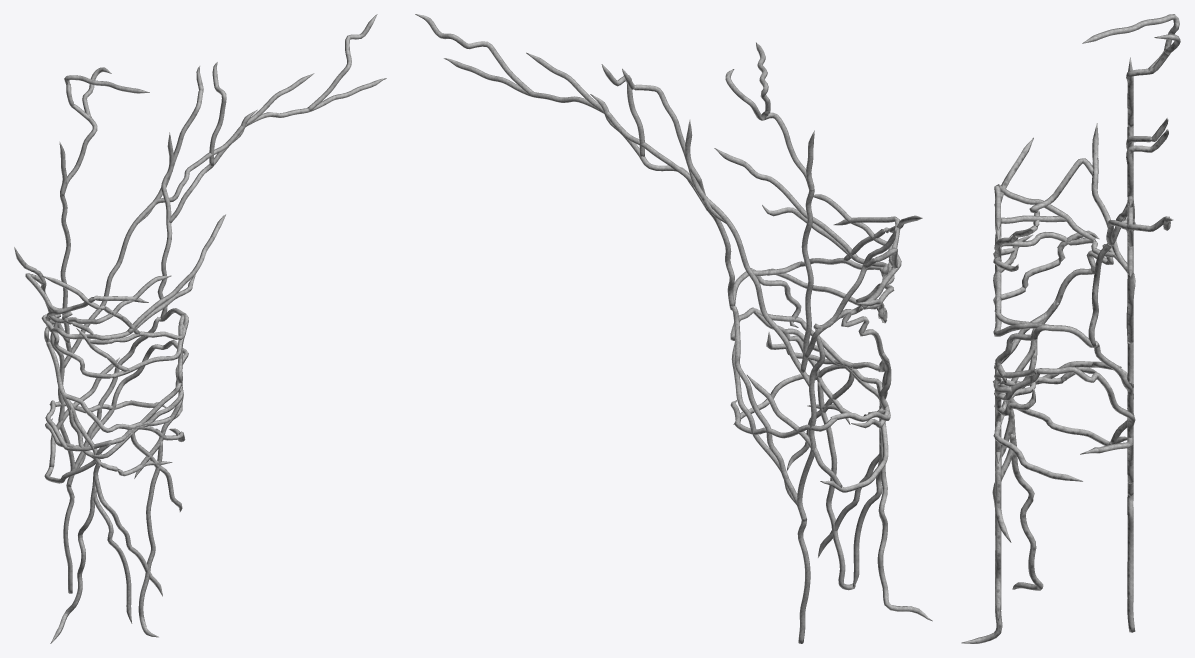
File: SM_Climber_06a.fbx
3 renders of one model, left to right at view 1: azimuth 30°, elevation 25°; view 2: azimuth 150°, elevation 25°; view 3: azimuth 270°, elevation 25°, orthographic. The views are drawn at different scales.
Visible parts, largest first — view 1: SM_Climber_06a_LOD0; view 2: SM_Climber_06a_LOD0; view 3: SM_Climber_06a_LOD0.
Boxes of the visible parts, left/top/right/bottom form: SM_Climber_06a_LOD0: left=14, top=14, right=386, bottom=643; SM_Climber_06a_LOD0: left=415, top=14, right=932, bottom=643; SM_Climber_06a_LOD0: left=961, top=14, right=1180, bottom=643.
Bounding box in the file's own units: 902 × 348 × 1104.
